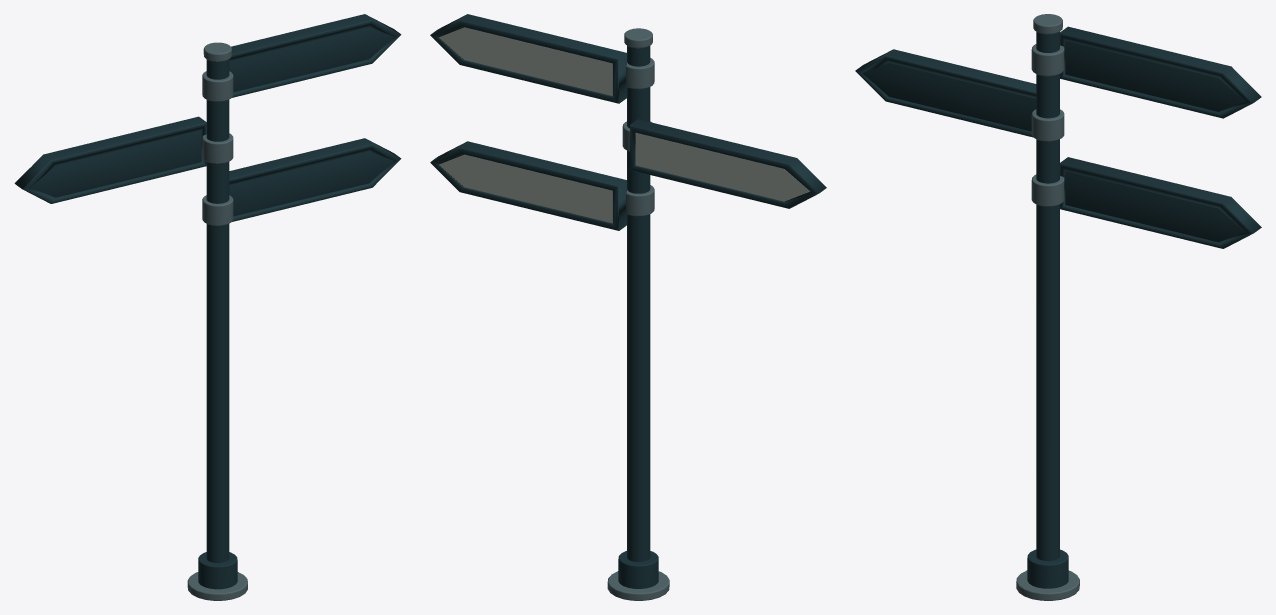
Rendered from city_sign_supports_04.glb.
3 renders of one model, left to right at view 1: azimuth 30°, elevation 25°; view 2: azimuth 150°, elevation 25°; view 3: azimuth 330°, elevation 25°, orthographic. The views are drawn at different scales.
Visible parts, largest first — view 1: CitySignSupports04_Hardware; view 2: CitySignSupports04_Hardware, CitySignSupports04_ArtworkMiddle, CitySignSupports04_ArtworkLower, CitySignSupports04_ArtworkUpper; view 3: CitySignSupports04_Hardware.
Part boxes in pixels (<box>): CitySignSupports04_Hardware: <box>14,14,401,600</box>; CitySignSupports04_Hardware: <box>430,14,826,600</box>; CitySignSupports04_ArtworkMiddle: <box>635,132,809,201</box>; CitySignSupports04_ArtworkLower: <box>438,154,612,223</box>; CitySignSupports04_ArtworkUpper: <box>439,27,612,95</box>; CitySignSupports04_Hardware: <box>855,14,1261,600</box>.
Bounding box in the file's own units: 2.88 × 3.92 × 0.4.
